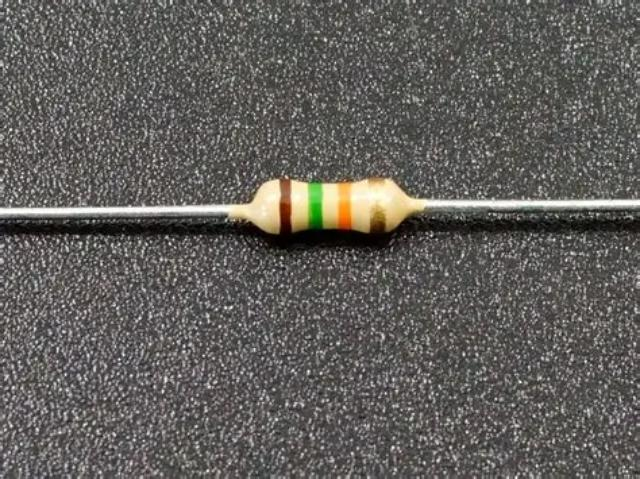brown: (269, 172, 299, 241)
gold: (365, 170, 394, 239)
green: (305, 173, 330, 234)
orange: (335, 173, 359, 234)
resistor: (233, 165, 434, 248)
